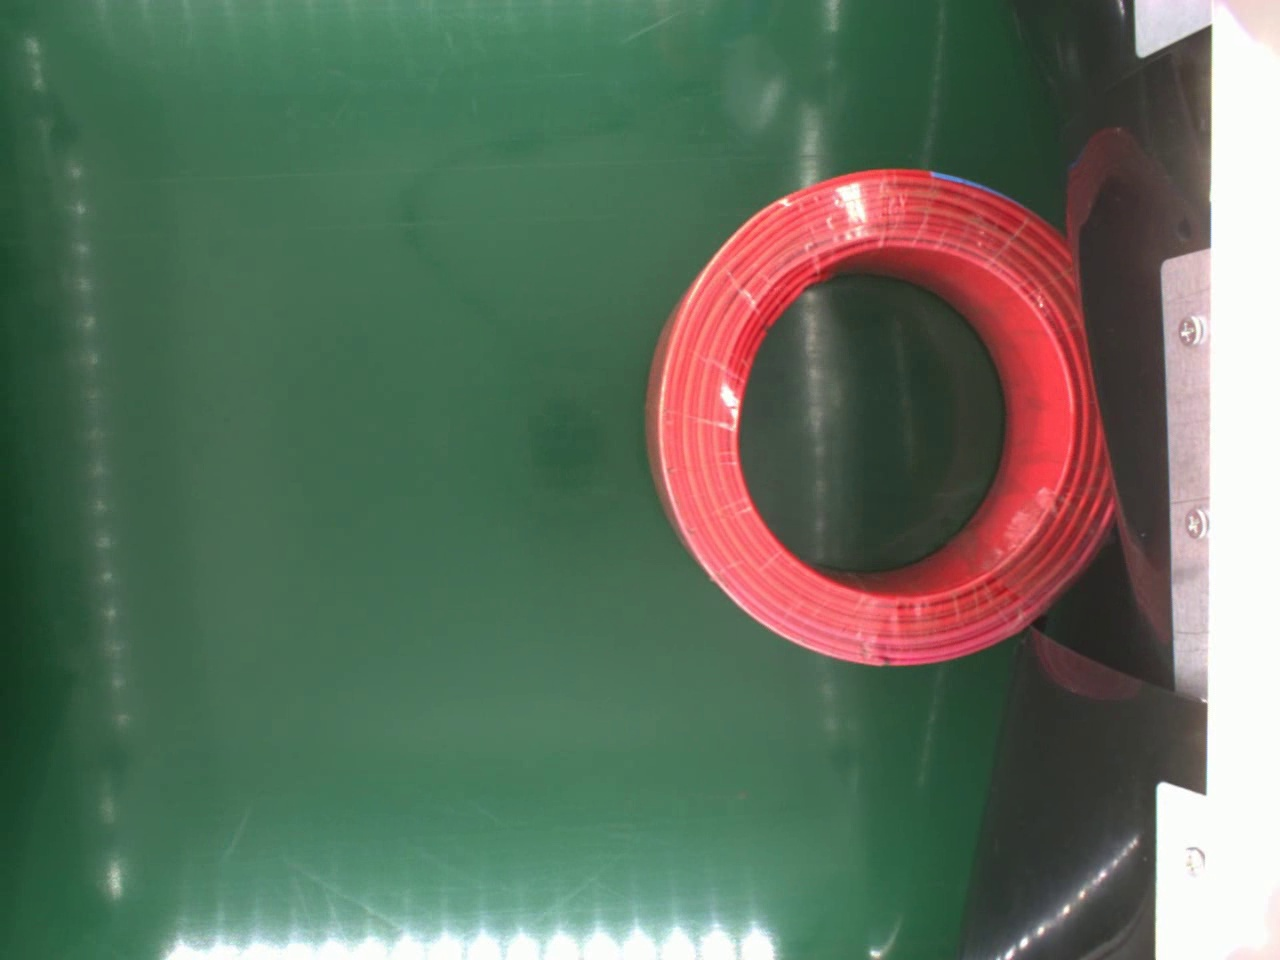red: (636, 158, 1114, 670)
